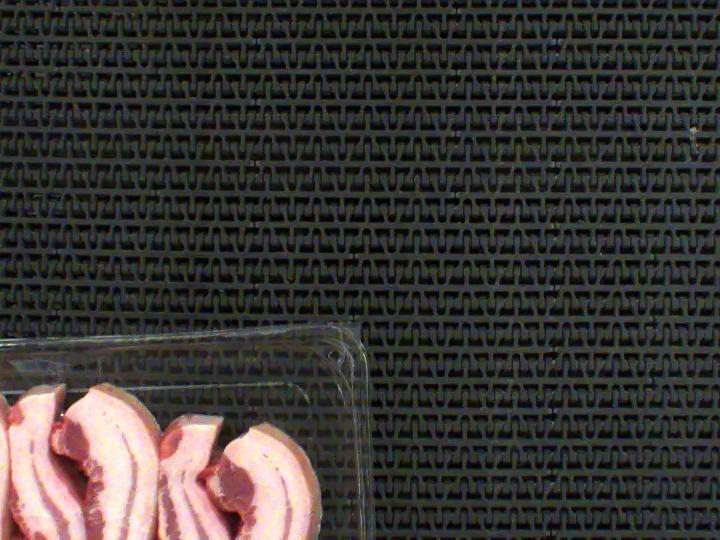packaging-error: (11, 356, 74, 398)
